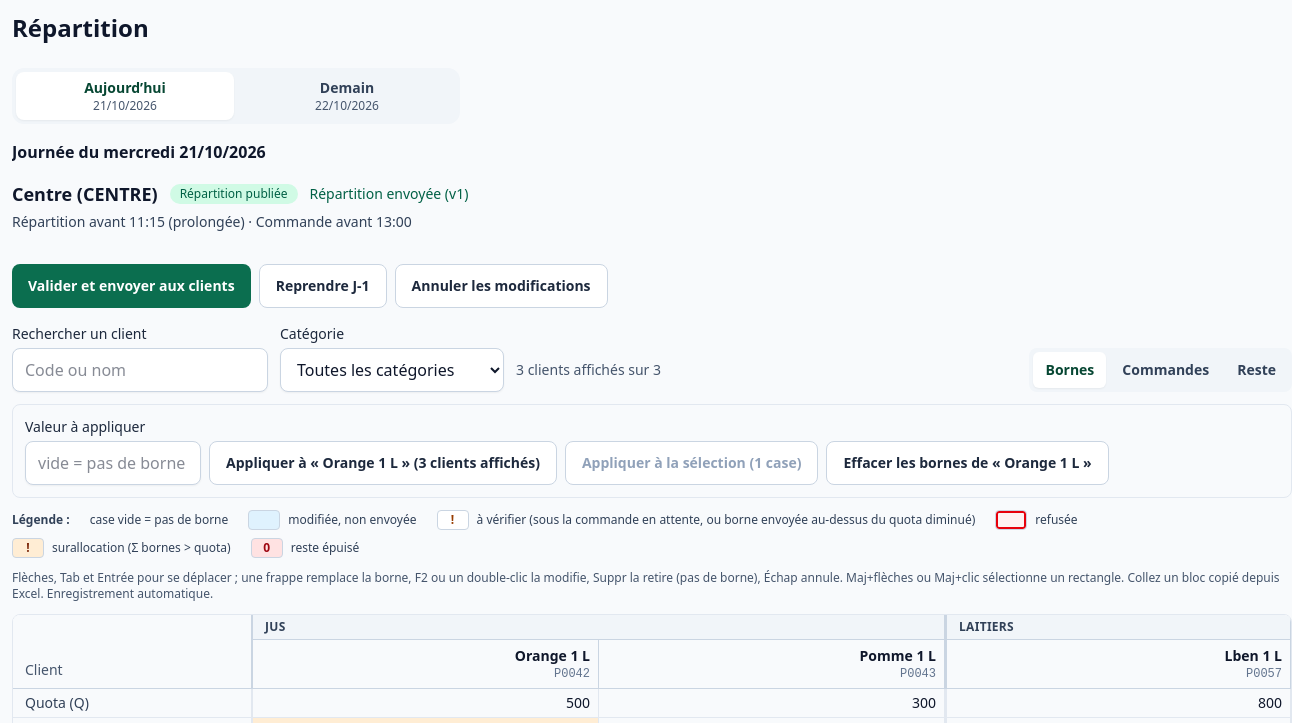
Test: regional distribution page — day and region › shows today by default and switches to tomorrow
Click the button "Demain 22/10/2026": point(347, 96) [238,72,456,120]
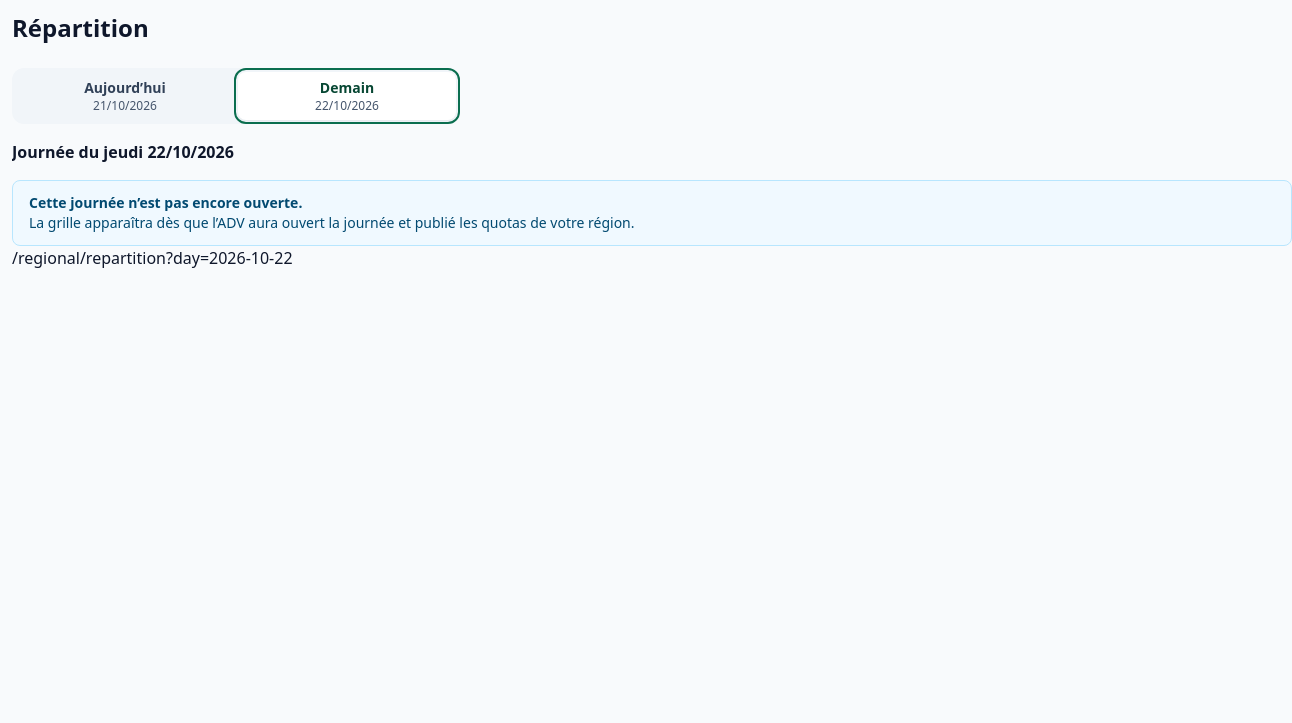
Expected: the text "Cette journée n’est pas encore ouverte." is shown, [29,193,302,212]
